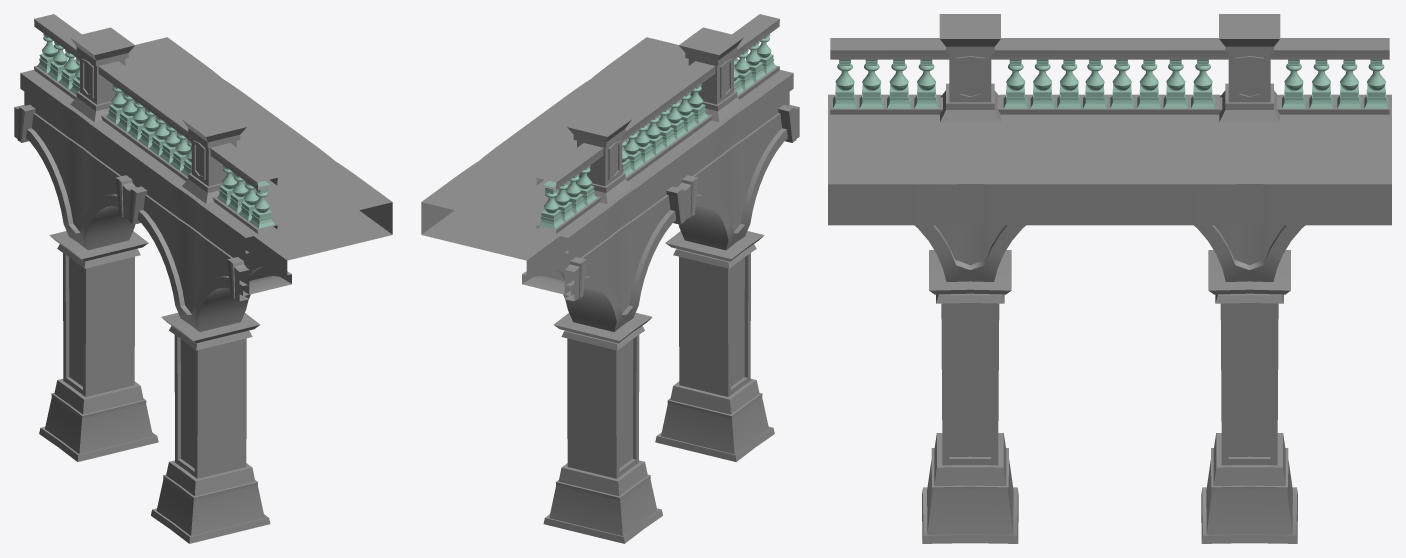
Rendered from Modular_Column.FBX.
3 views of the same model, side by side, from view 1: azimuth 30°, elevation 25°; view 2: azimuth 150°, elevation 25°; view 3: azimuth 270°, elevation 25° (orthographic). The views are drawn at different scales.
Visible parts, largest first — view 1: Object003, Object011; view 2: Object003, Object004; view 3: Object003, Object018, Object004, Object005, Object006, Object008, Object010, Object012, Object013, Object017, Object014, Object007 (+5 smaller).
Part boxes in pixels (x1=…): Object003: x1=14, y1=14, x2=392, y2=543; Object011: x1=249, y1=181, x2=274, y2=228; Object003: x1=421, y1=14, x2=799, y2=543; Object004: x1=538, y1=181, x2=563, y2=228; Object003: x1=828, y1=14, x2=1391, y2=543; Object018: x1=1163, y1=59, x2=1187, y2=108; Object004: x1=1364, y1=59, x2=1388, y2=108; Object005: x1=1337, y1=59, x2=1361, y2=108; Object006: x1=1309, y1=59, x2=1333, y2=108; Object008: x1=914, y1=59, x2=938, y2=108; Object010: x1=859, y1=59, x2=883, y2=108; Object012: x1=1003, y1=59, x2=1027, y2=108; Object013: x1=1030, y1=59, x2=1054, y2=108; Object017: x1=1137, y1=59, x2=1160, y2=108; Object014: x1=1057, y1=59, x2=1080, y2=108; Object007: x1=1282, y1=59, x2=1305, y2=108.
Size of the model in its own units: 91.45 by 209 by 215.
